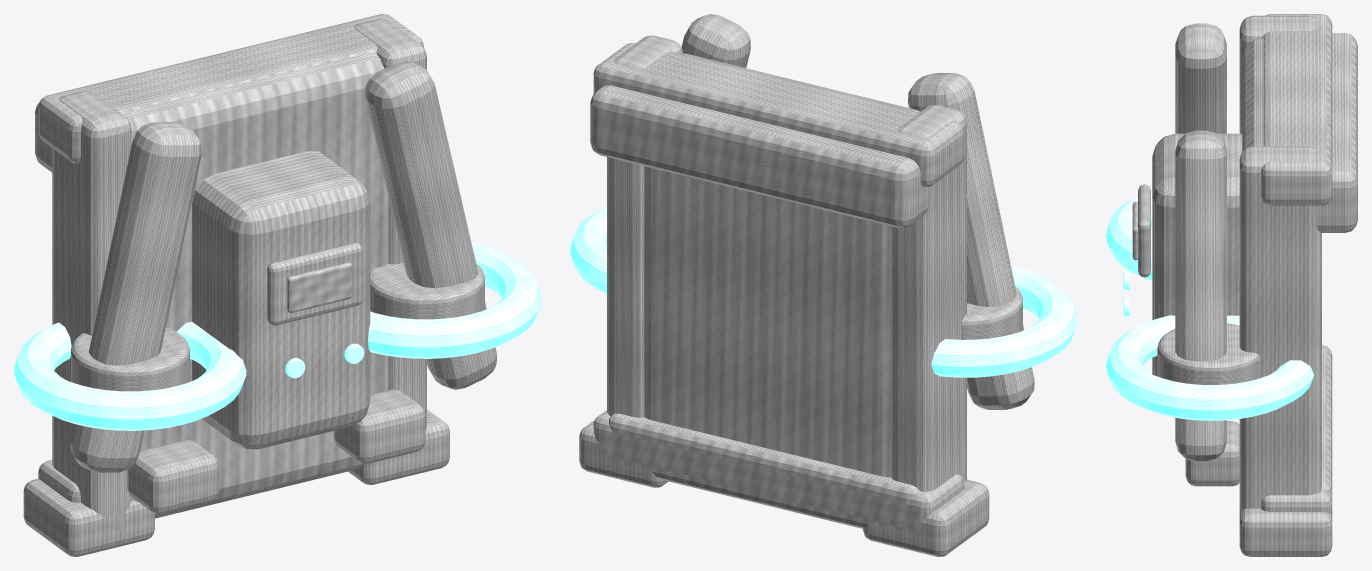
The model's file is hoverpack_variant_c.glb.
3 renders of one model, left to right at view 1: azimuth 30°, elevation 25°; view 2: azimuth 150°, elevation 25°; view 3: azimuth 270°, elevation 25°, orthographic. The views are drawn at different scales.
Visible parts, largest first — view 1: Power receiver housing.002, Dorsal mounting plate.002, Shoulder strap.004, Shoulder strap.005, Structural side rail, Large levitation ring.001, Upper frame crossbar, Large levitation ring, Lower stabilizer, Lower strap clasp.004, Lower strap clasp.005, Ring core.001 (+6 smaller); view 2: Dorsal mounting plate.002, Shoulder yoke.002, Structural side rail, Upper frame crossbar, Structural side rail.001, Shoulder strap.004, Waist stabilizer.002, Lower frame crossbar, Large levitation ring.001, Lower stabilizer, Shoulder strap.005, Large levitation ring (+2 smaller); view 3: Structural side rail.001, Shoulder strap.005, Upper frame crossbar, Large levitation ring, Power receiver housing.002, Shoulder yoke.002, Shoulder strap.004, Lower stabilizer.001, Ring core.001, Dorsal mounting plate.002, Lower strap clasp.005, Structural side rail (+5 smaller).
Boxes of the visible parts, box(x1,y1,x2,y2) form: Power receiver housing.002: box(192, 151, 370, 449); Dorsal mounting plate.002: box(125, 52, 388, 518); Shoulder strap.004: box(70, 122, 201, 472); Shoulder strap.005: box(365, 61, 497, 389); Structural side rail: box(52, 91, 131, 530); Large levitation ring.001: box(14, 321, 246, 430); Upper frame crossbar: box(38, 14, 423, 163); Large levitation ring: box(368, 242, 541, 358); Lower stabilizer: box(23, 478, 154, 556); Lower strap clasp.004: box(127, 440, 219, 513); Lower strap clasp.005: box(334, 389, 425, 463); Ring core.001: box(370, 263, 484, 319); Dorsal mounting plate.002: box(644, 53, 920, 477); Shoulder yoke.002: box(590, 85, 928, 228); Structural side rail: box(891, 105, 966, 491); Upper frame crossbar: box(593, 43, 964, 187); Structural side rail.001: box(607, 35, 683, 417); Shoulder strap.004: box(908, 73, 1034, 409); Waist stabilizer.002: box(609, 413, 920, 533); Lower frame crossbar: box(593, 410, 964, 531); Large levitation ring.001: box(931, 266, 1077, 377); Lower stabilizer: box(863, 479, 989, 556); Shoulder strap.005: box(681, 14, 750, 67); Large levitation ring: box(570, 207, 606, 293); Structural side rail.001: box(1239, 146, 1321, 511); Shoulder strap.005: box(1175, 130, 1226, 461); Upper frame crossbar: box(1261, 14, 1332, 205); Large levitation ring: box(1106, 315, 1314, 420); Power receiver housing.002: box(1152, 133, 1242, 375); Shoulder yoke.002: box(1316, 33, 1357, 232); Shoulder strap.004: box(1175, 23, 1226, 133); Lower stabilizer.001: box(1239, 508, 1332, 556); Ring core.001: box(1157, 323, 1259, 384); Dorsal mounting plate.002: box(1242, 38, 1263, 151); Lower strap clasp.005: box(1185, 421, 1239, 486); Structural side rail: box(1239, 15, 1316, 133).
Size of what is drawn, in the model's own units: 1.01 by 0.8463 by 0.49.
Materials: 7 (7 with a texture image).
